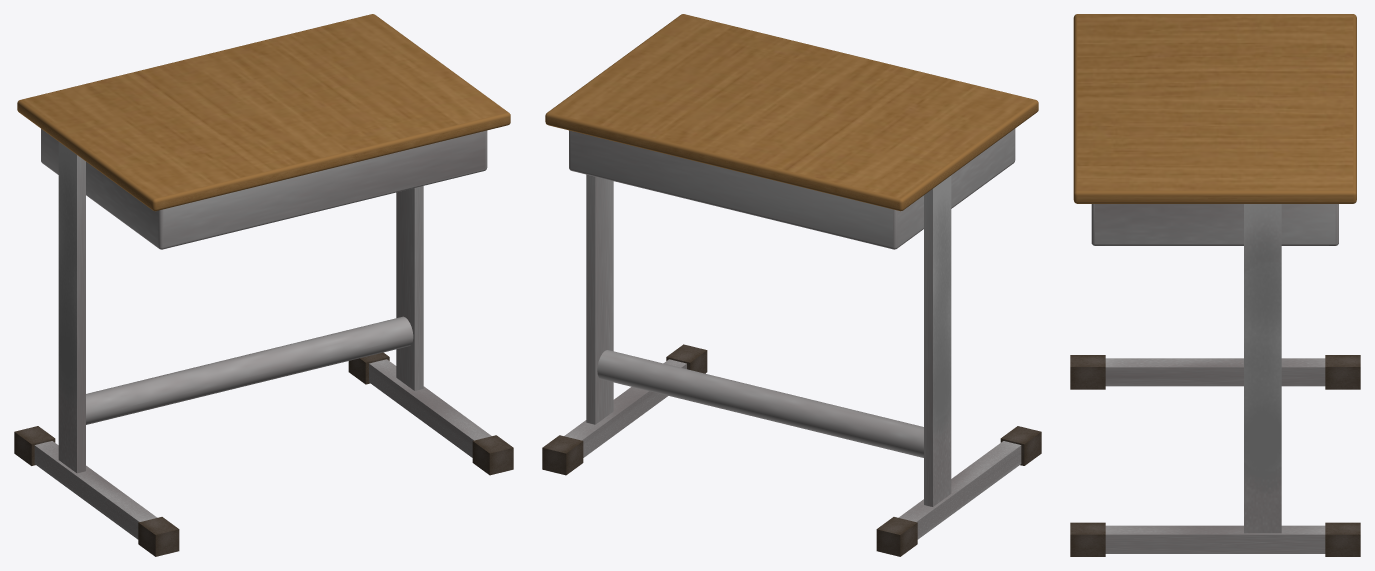
The model's file is desk.glb.
3 views of the same model, side by side, from view 1: azimuth 30°, elevation 25°; view 2: azimuth 150°, elevation 25°; view 3: azimuth 270°, elevation 25° (orthographic). The views are drawn at different scales.
Visible parts, largest first — view 1: obj4; view 2: obj4; view 3: obj4.
Boxes of the visible parts, x1,y1,x2,y2 form: obj4: (14,14,513,556); obj4: (542,14,1041,556); obj4: (1070,14,1360,556).
Size of the model in its own units: 60 by 56.88 by 41.
Materials: 1 (1 with a texture image).
